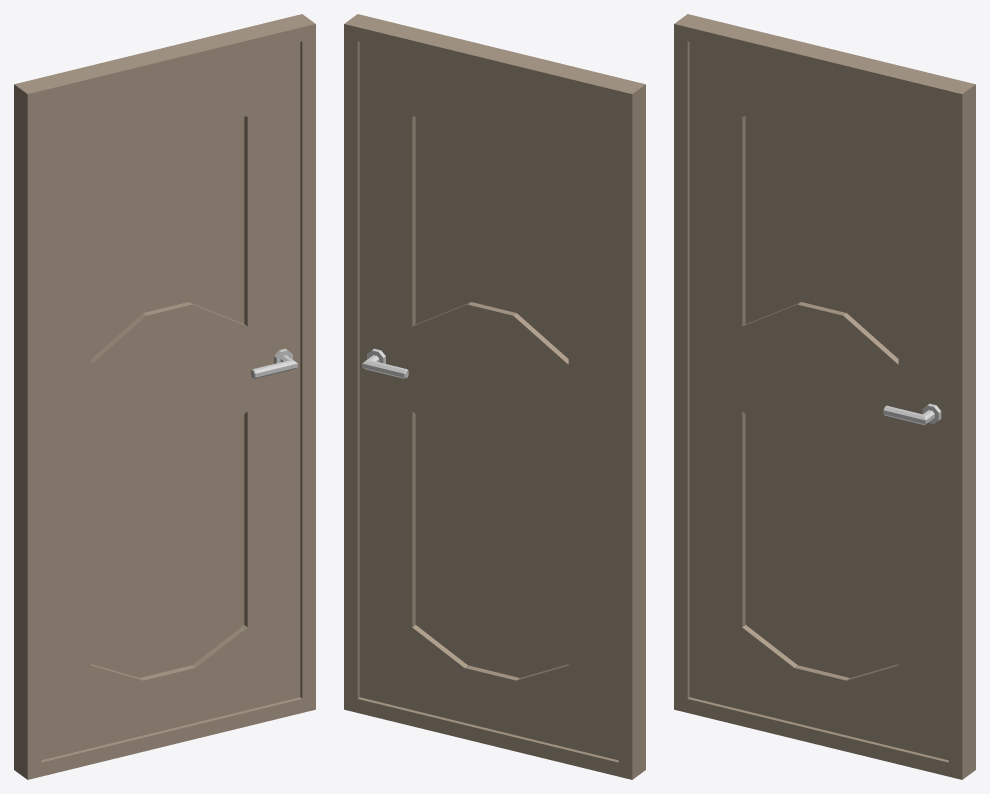
Rendered from Mesh_Door_D03.fbx.
The picture shows the model from 3 angles, left to right: view 1: azimuth 30°, elevation 25°; view 2: azimuth 150°, elevation 25°; view 3: azimuth 330°, elevation 25°; orthographic projection.
Visible parts, largest first — view 1: Mesh_Door_D03; view 2: Mesh_Door_D03; view 3: Mesh_Door_D03.
Boxes of the visible parts, left/top/right/bottom form: Mesh_Door_D03: left=14, top=14, right=315, bottom=779; Mesh_Door_D03: left=344, top=14, right=645, bottom=779; Mesh_Door_D03: left=674, top=14, right=975, bottom=779.
Size of the model in its own units: 0.9 by 2.05 by 0.1742.
